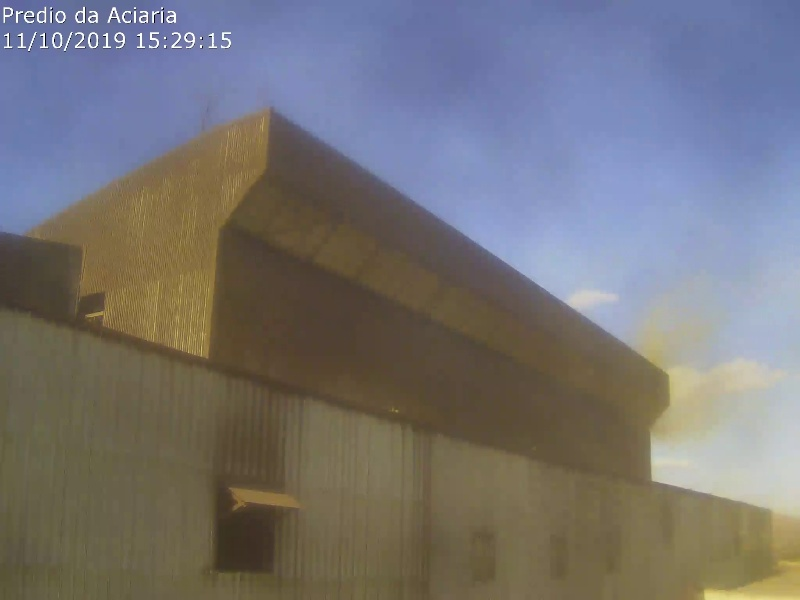bom: (237, 20, 579, 377), (15, 1, 265, 153)
ruim: (580, 258, 766, 457)
